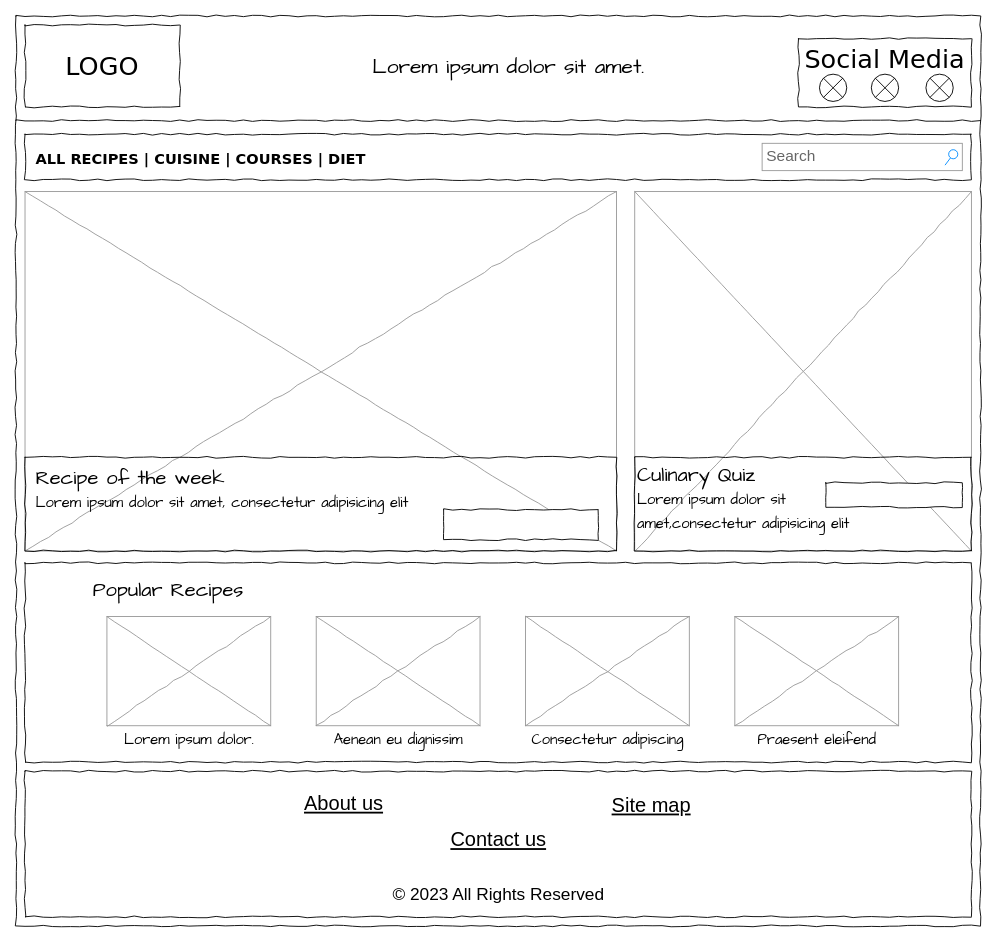
The diagram is 996 pixels wide and 942 high, and some of its shapes have lost their labels. The shapes that lost their labels are listed below. From the top down, each one's box as (x1, y1, x2, y2) in pixels, then its label:
(825, 482, 962, 507): Take the quiz >
(443, 509, 598, 540): Take a look >
